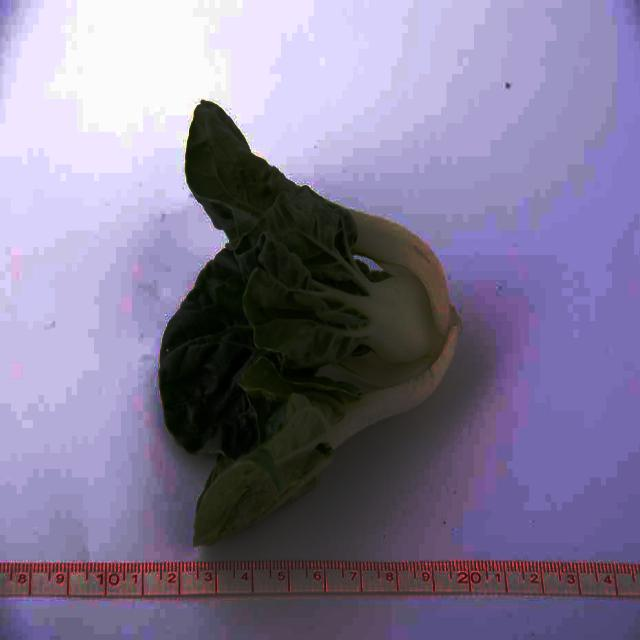chinese_cabbage: (165, 100, 460, 529)
